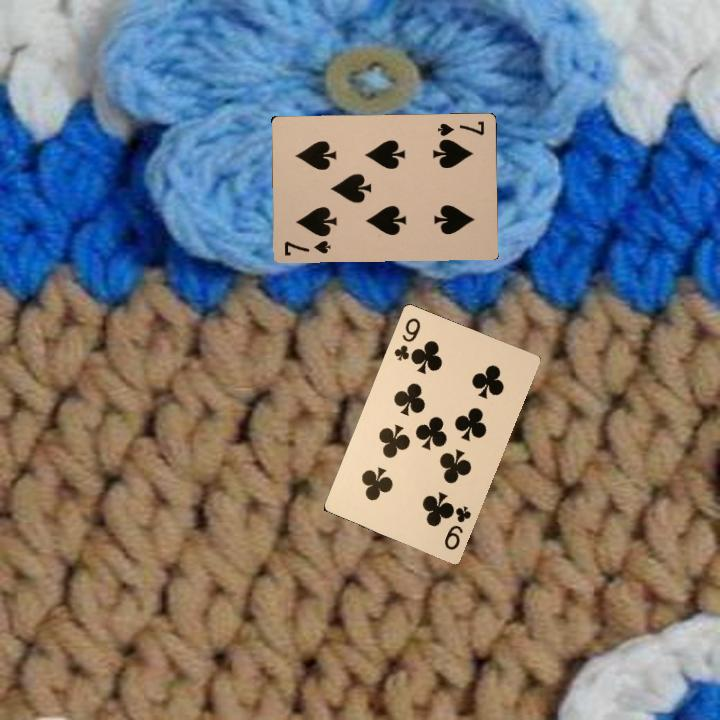7s: (434, 117, 487, 139), (280, 237, 333, 258)
9c: (440, 502, 474, 553), (390, 314, 423, 363)
